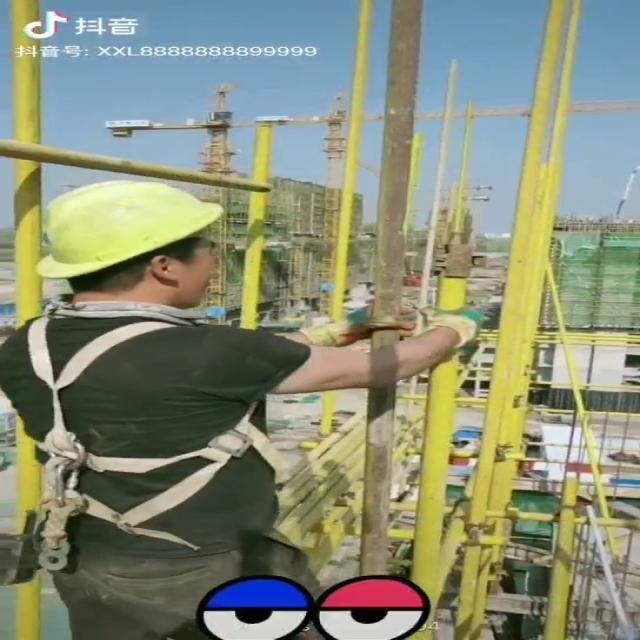Arnes_seguridad: (1, 298, 306, 572)
